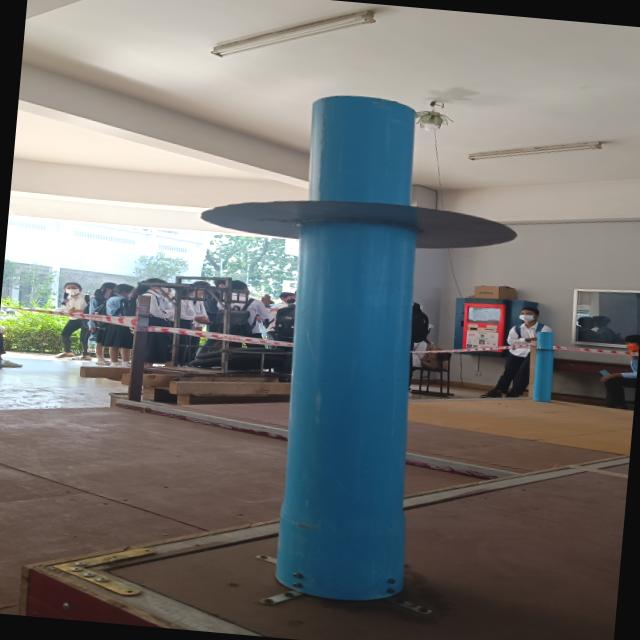pole: (165, 65, 557, 383)
